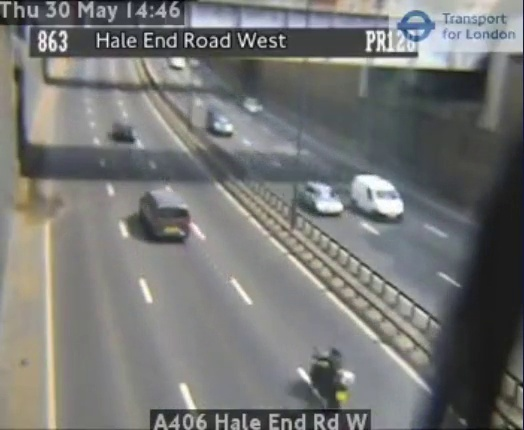motorcycle: (310, 347, 356, 408)
van: (139, 191, 191, 240)
